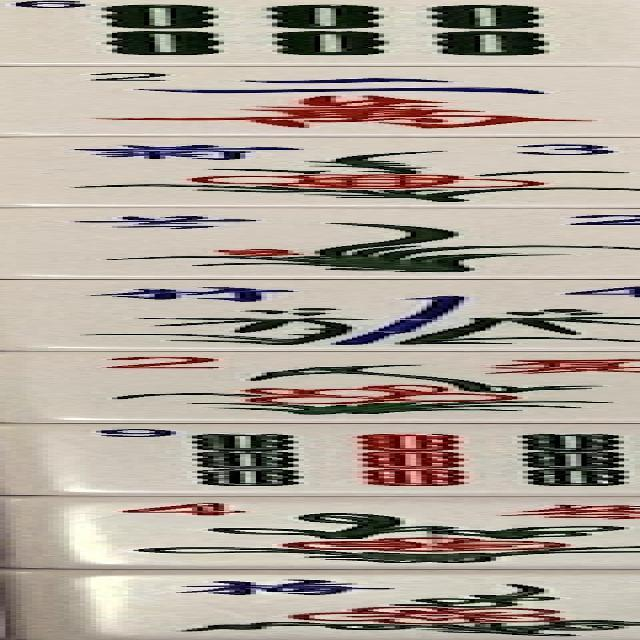bf1: (40, 575, 640, 635)
bf2: (0, 210, 640, 276)
bf3: (0, 136, 640, 206)
bf4: (0, 282, 640, 346)
bs2: (0, 352, 640, 422)
bs4: (0, 495, 640, 569)
sb6: (0, 0, 640, 62)
sb9: (0, 426, 640, 494)
sc2: (0, 64, 640, 134)
